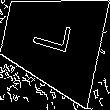L_W: (28, 20, 76, 62)
